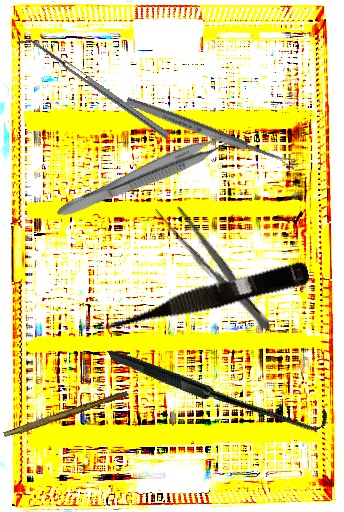Dressing Forceps: (151, 195, 281, 338)
Hook Surgical: (107, 271, 332, 502)
Micro Scissor: (92, 255, 312, 340)
Scalpel Handle: (3, 388, 129, 441)
Spatula Surgical: (16, 31, 170, 145)
Surgical Spoon: (124, 95, 298, 171)
Tissue Forceps: (53, 124, 242, 230)
